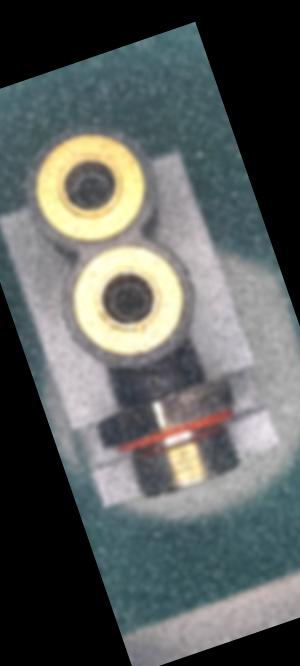craze: (141, 362, 168, 400)
